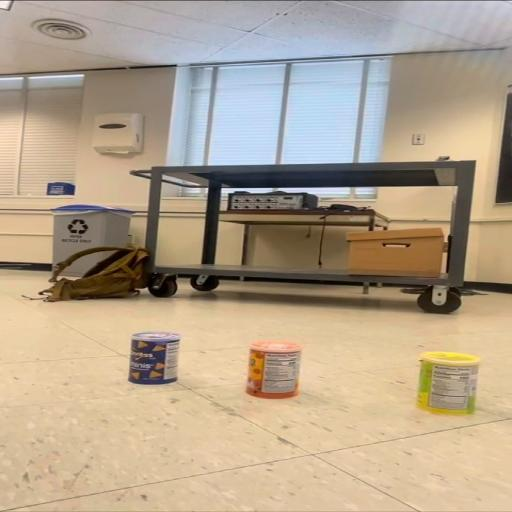pringle can: (415, 349, 479, 417), (248, 339, 298, 398), (128, 332, 180, 384)
